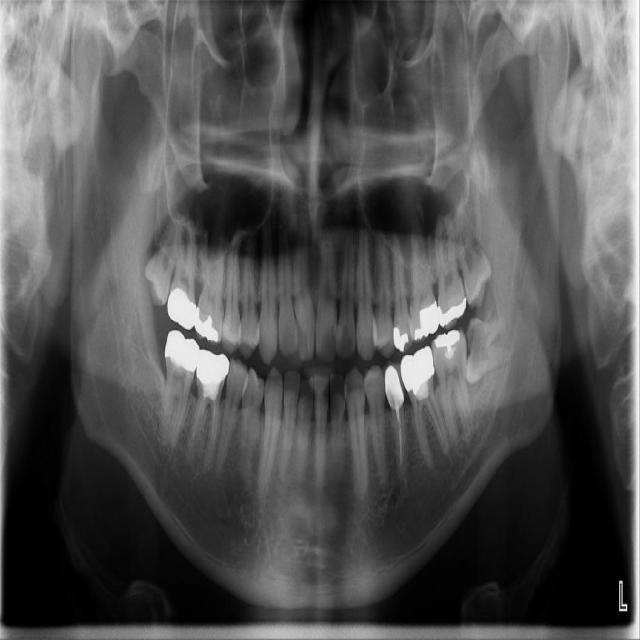3M ESPE Implant: (138, 202, 186, 310)
52: (427, 326, 475, 385), (397, 345, 438, 400), (160, 328, 204, 379), (189, 348, 232, 393), (433, 279, 469, 331), (406, 294, 443, 342), (166, 281, 197, 331), (194, 299, 223, 347), (379, 360, 406, 410), (334, 307, 356, 360), (392, 308, 415, 354), (467, 230, 485, 260)
73: (184, 383, 225, 469), (389, 401, 408, 485), (587, 558, 603, 564)
BioHorizons Implant: (433, 212, 467, 330)
BioLife Implant: (449, 199, 498, 312)
Biomet 3i Implant: (459, 316, 512, 387)
Blue Sky Bio Implant: (428, 327, 485, 444)
Caries: (167, 213, 196, 331)
Implant: (153, 329, 202, 454)
